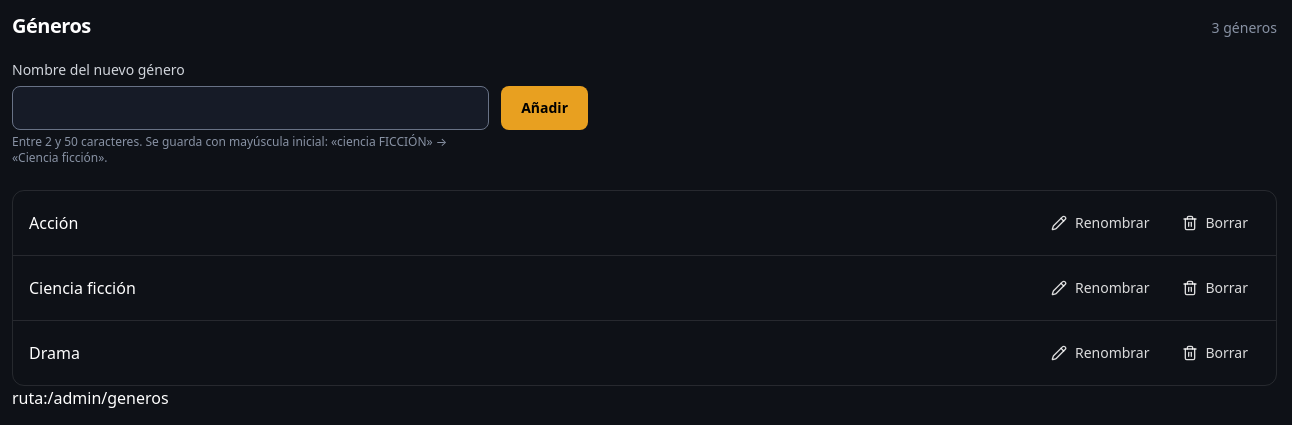
AdminGenresPage: renombrar en línea › Escape cancela sin enviar nada y devuelve el foco a «Renombrar X»
Expected: the list named "Géneros" is shown, x1=12 y1=190 x2=1277 y2=386
Click the button with aria-label "Renombrar Drama" at (1100, 353), box x1=1039 y1=331 x2=1162 y2=375
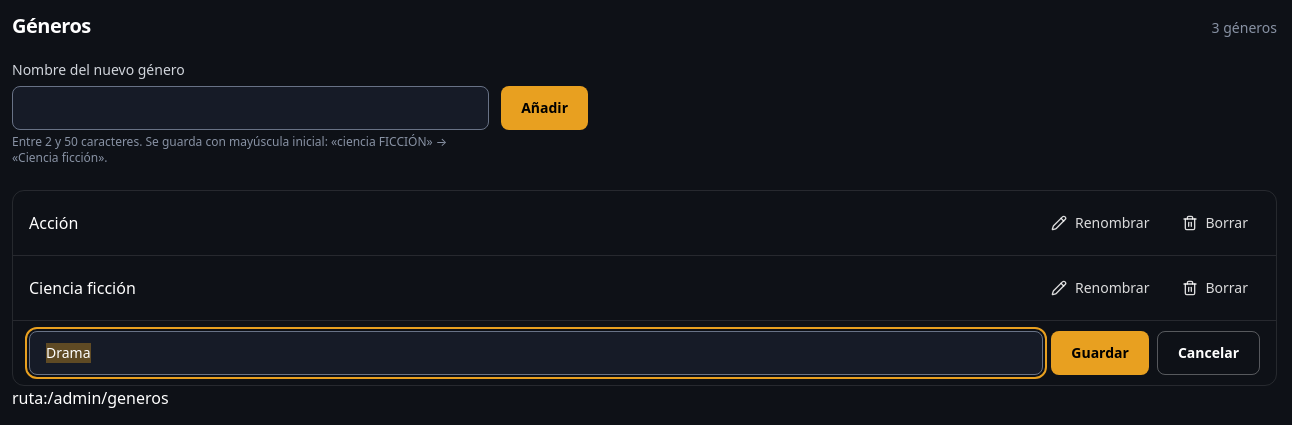
Type keys "Otro nombre"
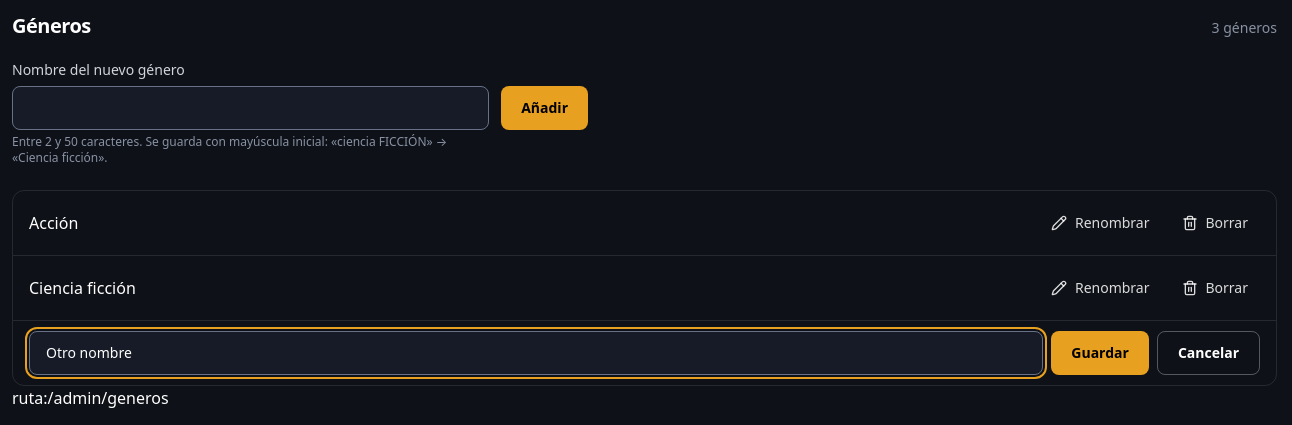
Press Escape
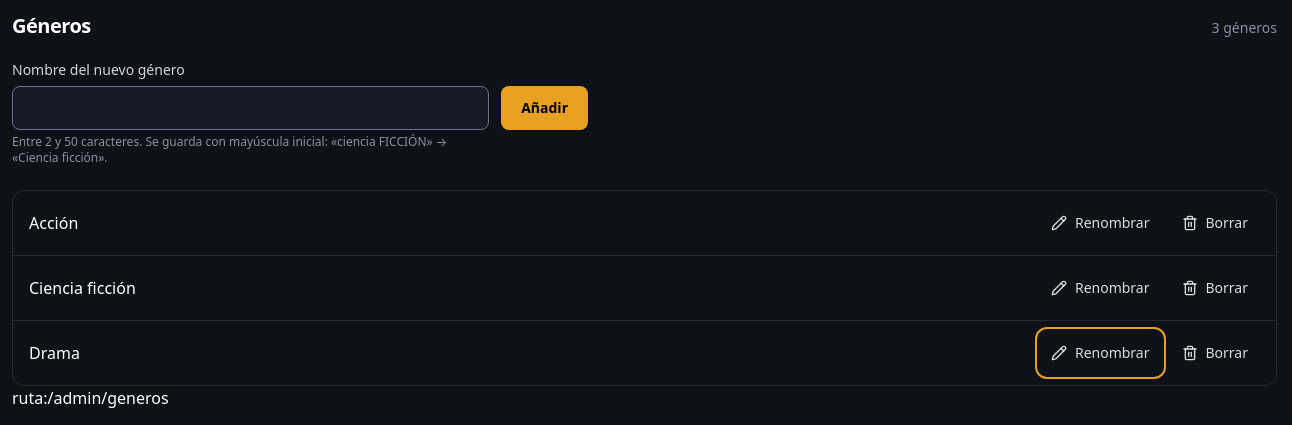
Expected: the field labelled "Nuevo nombre" is not shown
Now the text "Drama" is shown, box x1=29 y1=342 x2=80 y2=364
